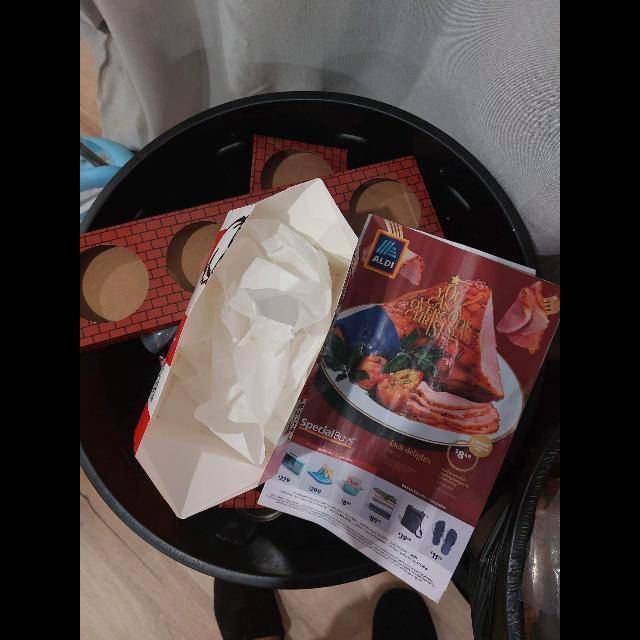cardboard: (134, 178, 359, 520), (80, 178, 316, 352), (320, 156, 445, 239), (250, 133, 347, 193)
paper: (258, 217, 560, 604), (152, 218, 333, 467)
